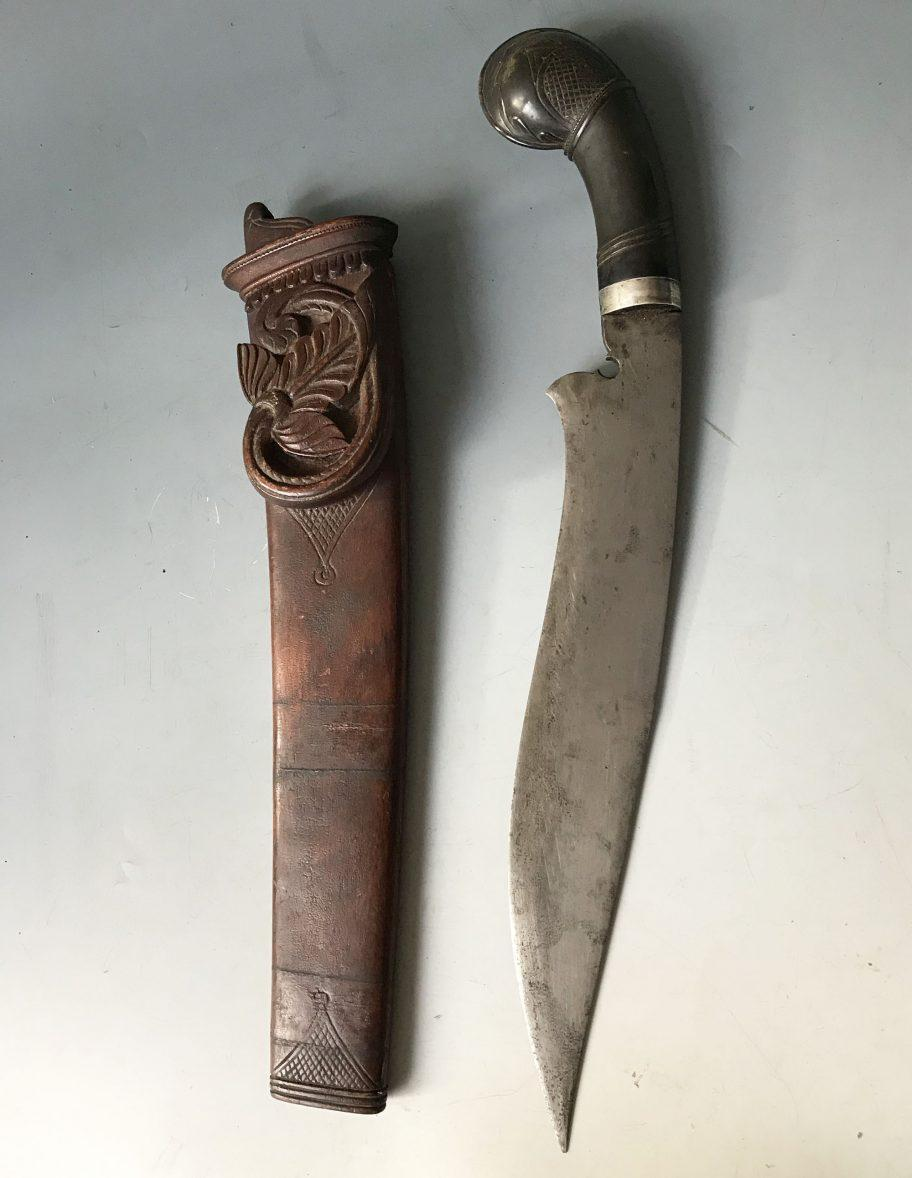facao: (479, 30, 682, 1150)
